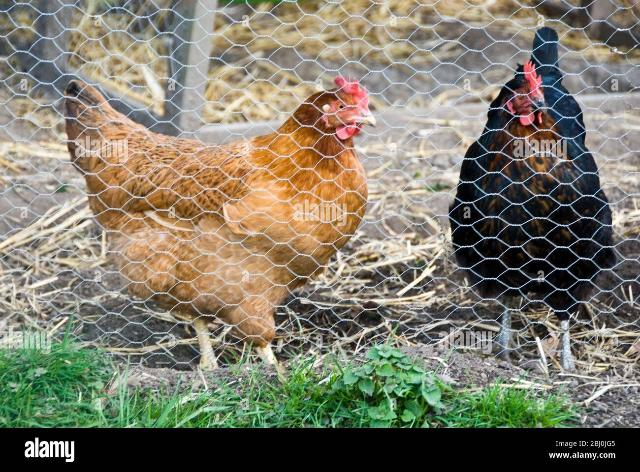Chicken: (65, 76, 377, 367), (449, 25, 615, 368)
